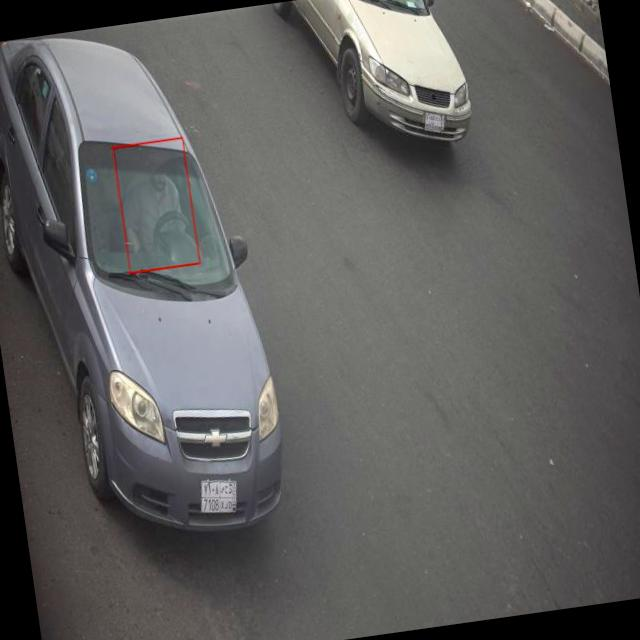person_without_seatbelt: (116, 143, 198, 270)
